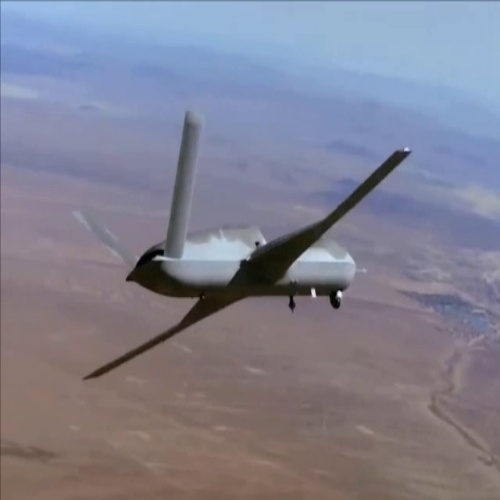uav930: (77, 107, 413, 382)
